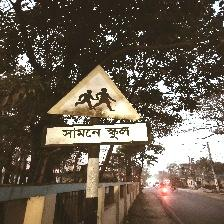School-in-front: (43, 64, 148, 148)
